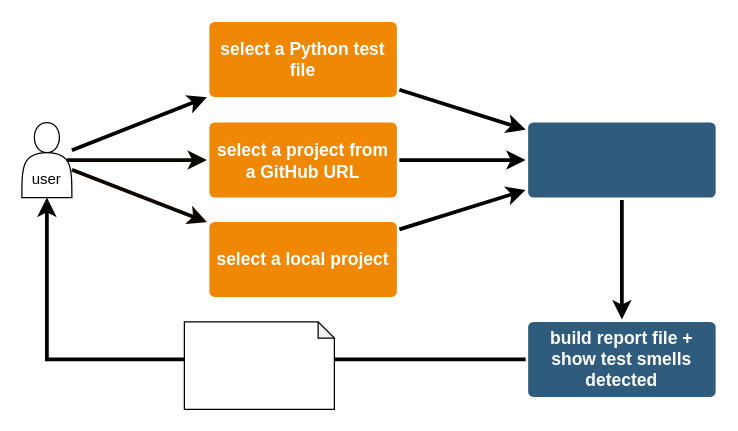
This 738x431 diagram has some shape labels left out. Each missing label, with the centre of its shape:
"Python parser + Test Smells detector" belongs at (x=621, y=159).
"test smell report (html file)" belongs at (x=258, y=365).
